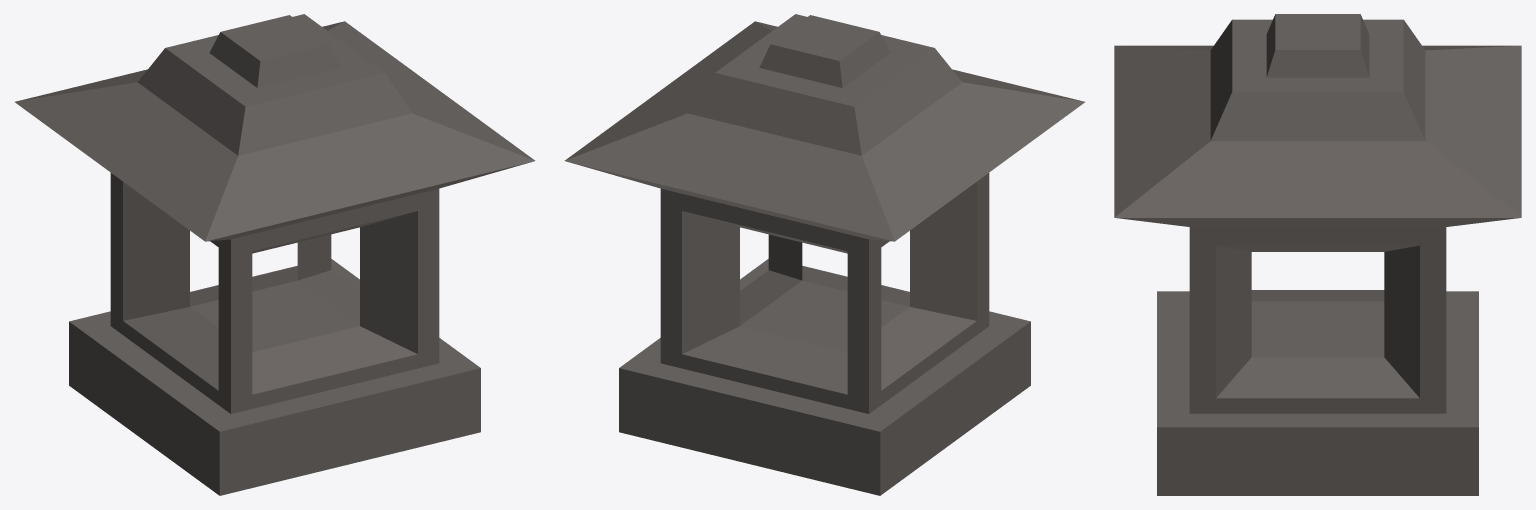
File: lanterne.fbx
3 views of the same model, side by side, from view 1: azimuth 30°, elevation 25°; view 2: azimuth 150°, elevation 25°; view 3: azimuth 270°, elevation 25° (orthographic). The views are drawn at different scales.
Parts seen in each view (by area): view 1: Lanterne; view 2: Lanterne; view 3: Lanterne.
Boxes of the visible parts, left/top/right/bottom form: Lanterne: left=15, top=14, right=535, bottom=495; Lanterne: left=564, top=14, right=1084, bottom=495; Lanterne: left=1114, top=14, right=1521, bottom=495.
Bounding box in the file's own units: 253 × 271 × 253.
Materials: 1 (1 with a texture image).
